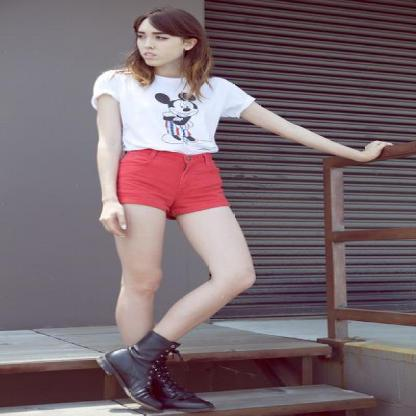shirt: (91, 68, 255, 154)
shoe: (96, 325, 195, 413)
shorts: (115, 143, 235, 219)
